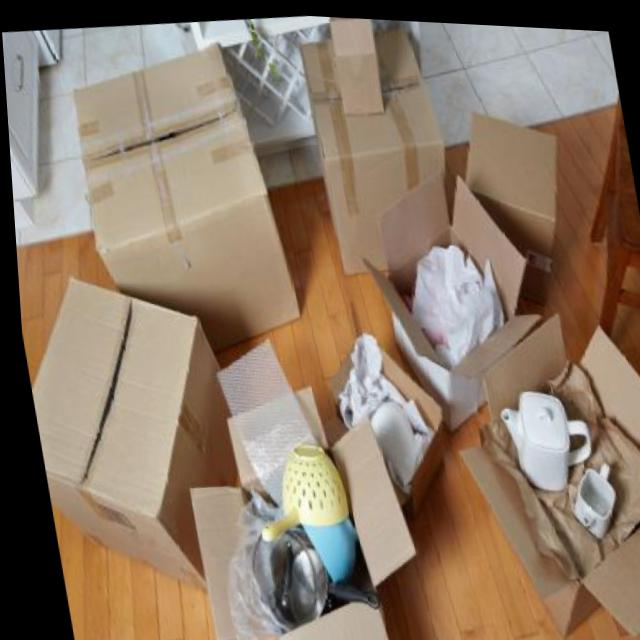box: (47, 21, 330, 358), (13, 251, 237, 613), (158, 362, 432, 640), (446, 282, 640, 640), (340, 142, 550, 434), (292, 12, 471, 282), (452, 84, 579, 266)
